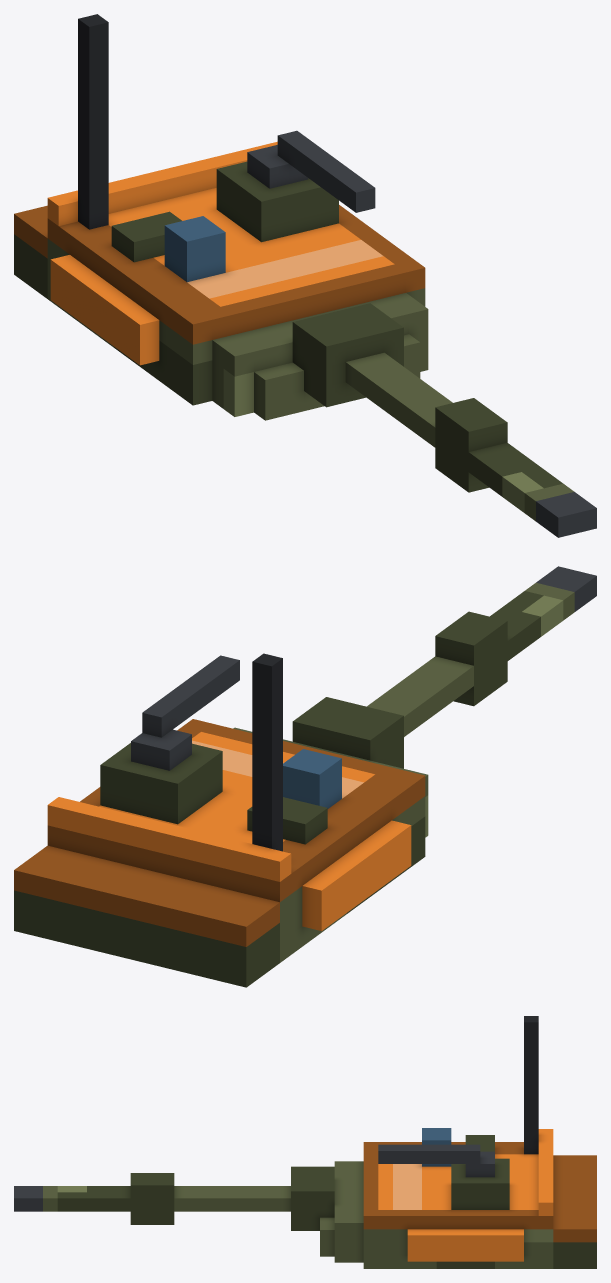
The model's file is cm_tank_g_5.glb.
3 renders of one model, top to bottom at view 1: azimuth 30°, elevation 25°; view 2: azimuth 150°, elevation 25°; view 3: azimuth 270°, elevation 25°, orthographic. The views are drawn at different scales.
Parts seen in each view (by area): view 1: cm_tank_g_5_body; view 2: cm_tank_g_5_body; view 3: cm_tank_g_5_body.
Boxes of the visible parts, x1,y1,x2,y2 form: cm_tank_g_5_body: (14,14,596,537); cm_tank_g_5_body: (14,566,596,987); cm_tank_g_5_body: (14,1016,596,1268).
Bounding box in the file's own units: 0.875 × 0.875 × 2.5.
Materials: 1 (1 with a texture image).
